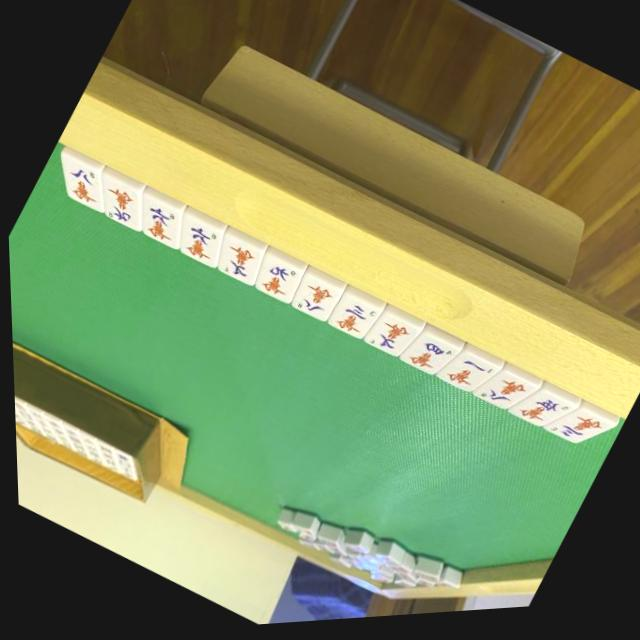sc1: (437, 352, 493, 405)
sc3: (552, 405, 604, 458), (326, 296, 375, 345)
sc4: (400, 332, 453, 386)
sc5: (512, 388, 559, 438)
sc6: (137, 197, 185, 247), (176, 217, 223, 267)
sc7: (213, 237, 262, 288), (364, 316, 411, 364)
sc8: (476, 371, 530, 424), (57, 157, 110, 209), (290, 276, 337, 325)
sc9: (250, 254, 302, 309), (92, 177, 142, 228)
